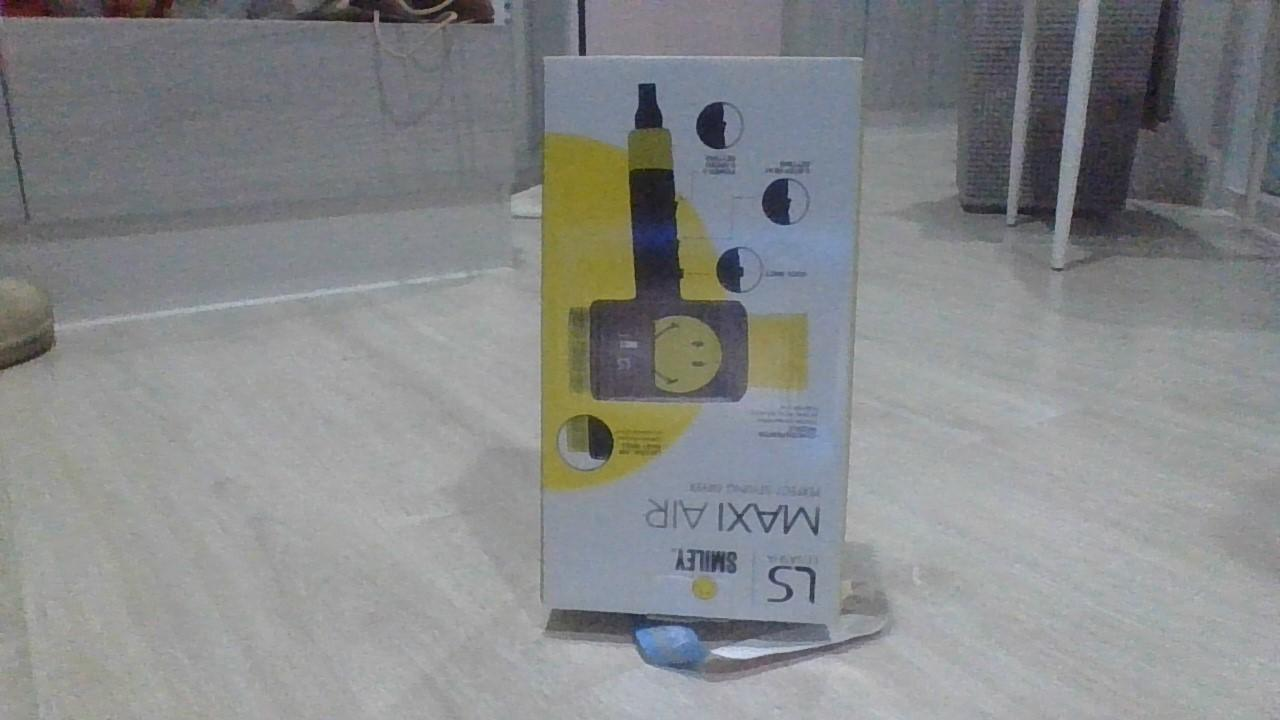IRON: (534, 50, 867, 637)
